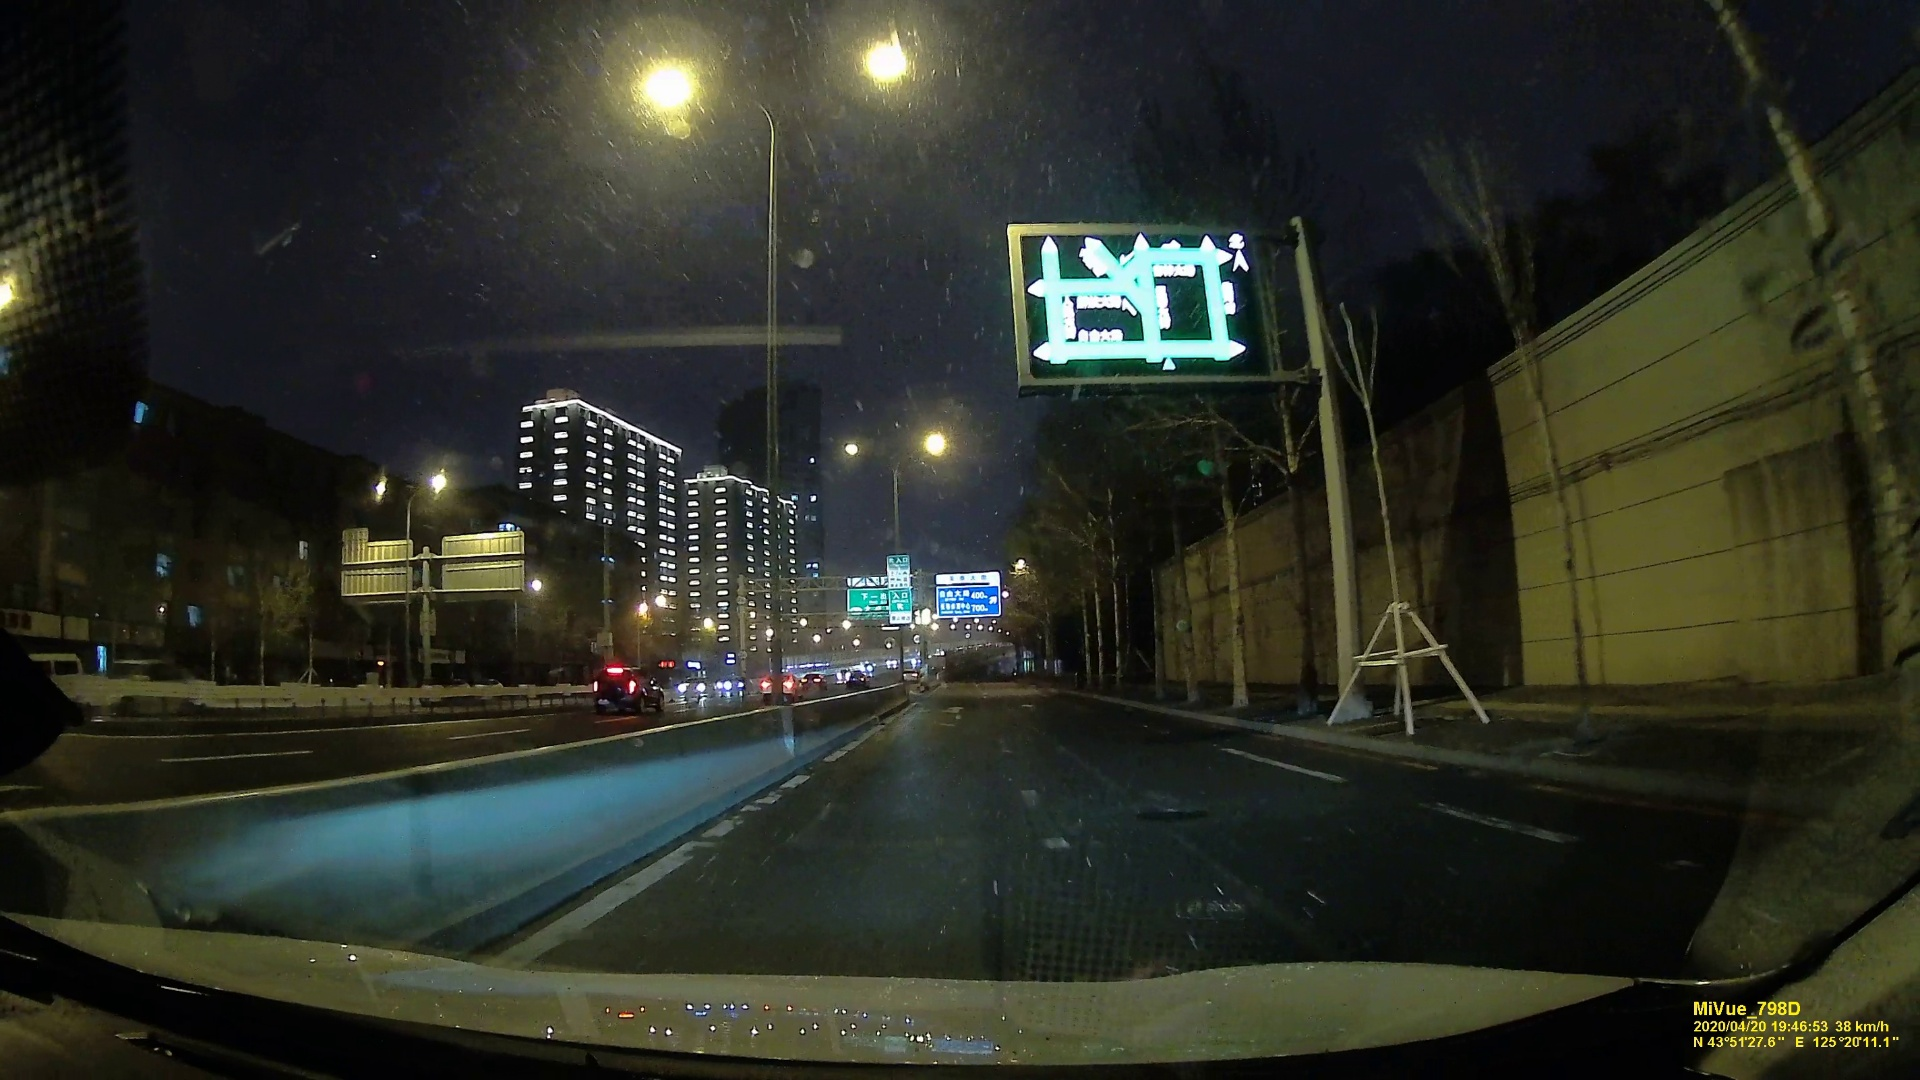traffic_sign: (1025, 225, 1271, 376), (932, 574, 1000, 616), (848, 578, 913, 616)
vehicle: (595, 666, 662, 709)
